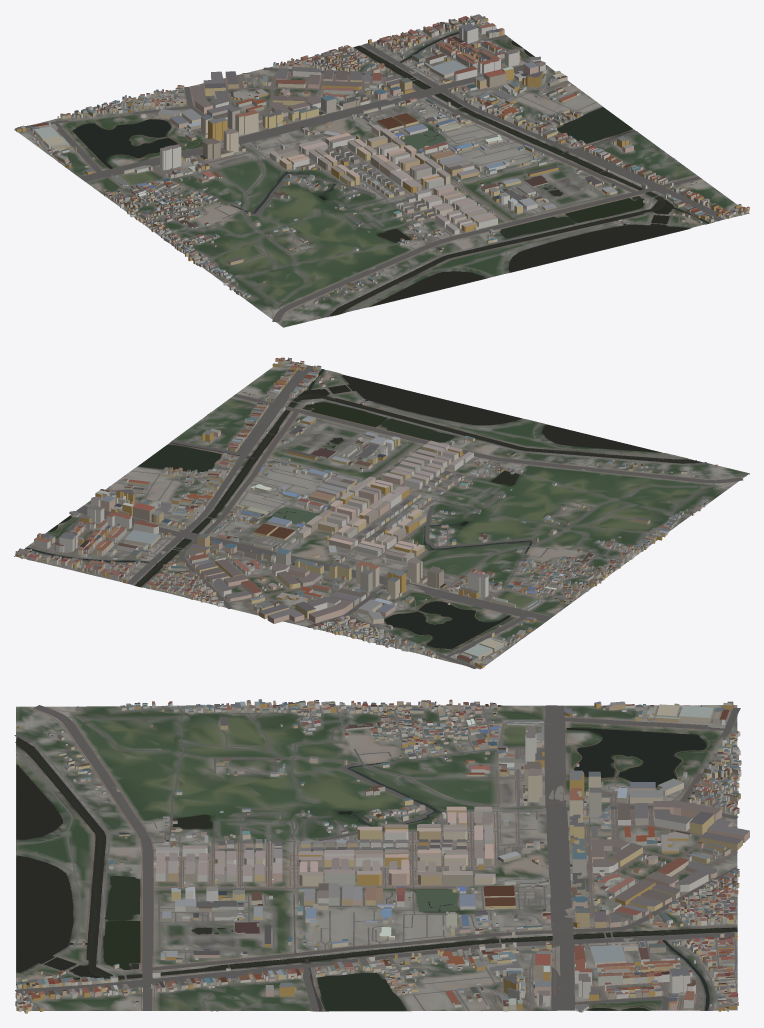
3 renders of one model, top to bottom at view 1: azimuth 30°, elevation 25°; view 2: azimuth 150°, elevation 25°; view 3: azimuth 270°, elevation 25°, orthographic. The views are drawn at different scales.
Visible parts, largest first — view 1: ground, buildings, roads, water; view 2: ground, buildings, roads, water; view 3: ground, buildings, roads, water.
Part boxes in pixels (x1=…): ground: x1=14, y1=18, x2=749, y2=327; buildings: x1=15, y1=14, x2=749, y2=319; roads: x1=17, y1=23, x2=745, y2=324; water: x1=73, y1=27, x2=709, y2=316; ground: x1=14, y1=359, x2=749, y2=669; buildings: x1=15, y1=357, x2=717, y2=668; roads: x1=24, y1=362, x2=745, y2=668; water: x1=25, y1=369, x2=701, y2=648; ground: x1=16, y1=705, x2=737, y2=1011; buildings: x1=15, y1=699, x2=749, y2=1013; roads: x1=14, y1=705, x2=740, y2=1011; water: x1=15, y1=728, x2=737, y2=1011.
Bounding box in the file's own units: 1423 × 62.04 × 1430.
